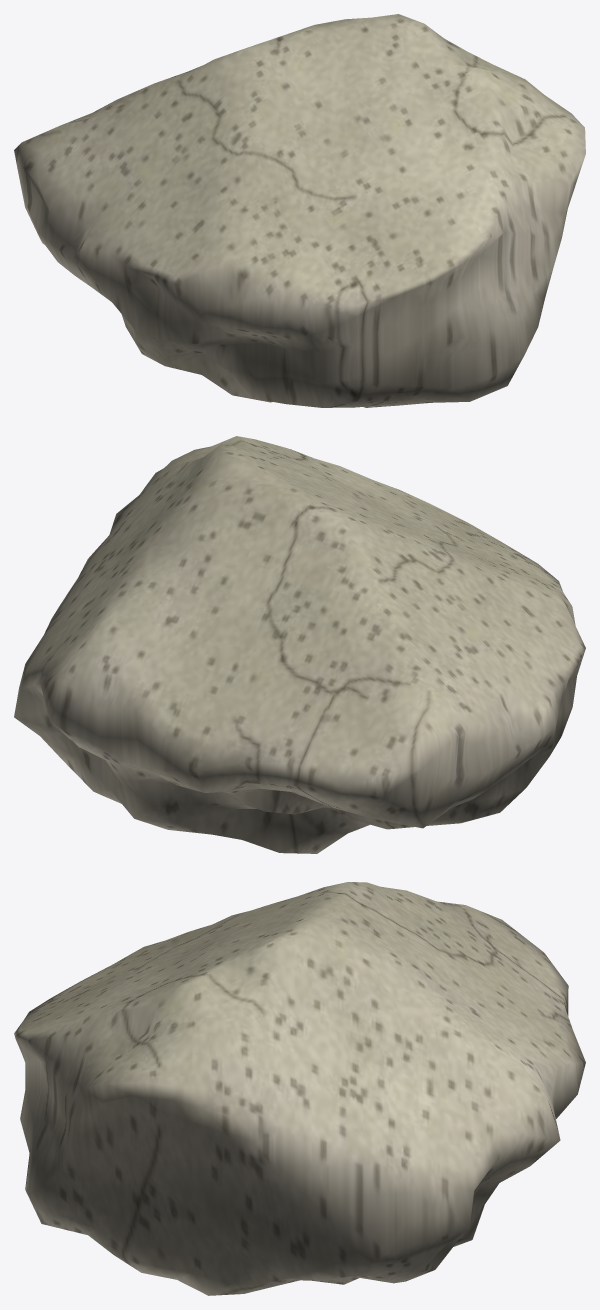
File: rock-limestone-2.lite.glb
3 views of the same model, one above another, from view 1: azimuth 30°, elevation 25°; view 2: azimuth 150°, elevation 25°; view 3: azimuth 270°, elevation 25° (orthographic). The views are drawn at different scales.
Parts seen in each view (by area): view 1: model; view 2: model; view 3: model.
Part boxes in pixels (box(x1,y1,x2,y2)): model: box(14, 14, 585, 407); model: box(14, 436, 585, 853); model: box(14, 882, 585, 1295).
Size of the model in its own units: 1 by 0.7241 by 1.05.
Materials: 1 (1 with a texture image).
